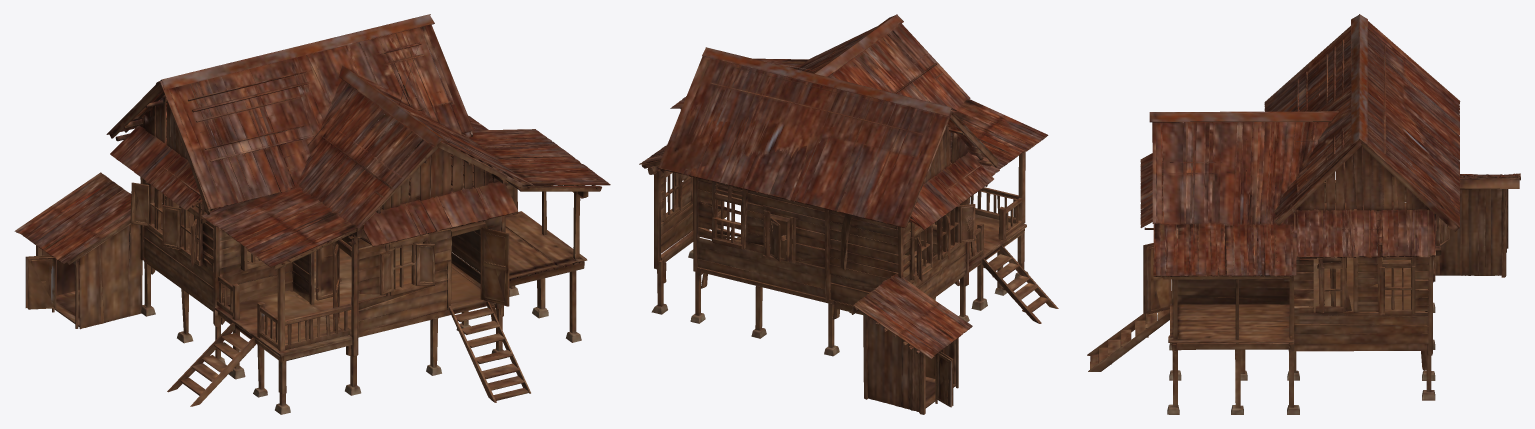
The model's file is rustic_stilt_house_3d_model_free.glb.
The picture shows the model from 3 angles, left to right: view 1: azimuth 30°, elevation 25°; view 2: azimuth 150°, elevation 25°; view 3: azimuth 270°, elevation 25°; orthographic projection. The views are drawn at different scales.
Visible parts, largest first — view 1: Object_4; view 2: Object_4; view 3: Object_4.
Part boxes in pixels (x1=…): Object_4: x1=14, y1=14, x2=610, y2=414; Object_4: x1=639, y1=14, x2=1058, y2=414; Object_4: x1=1087, y1=14, x2=1520, y2=414.
Size of the model in its own units: 0.9492 by 0.5938 by 0.916.
Materials: 1 (1 with a texture image).
